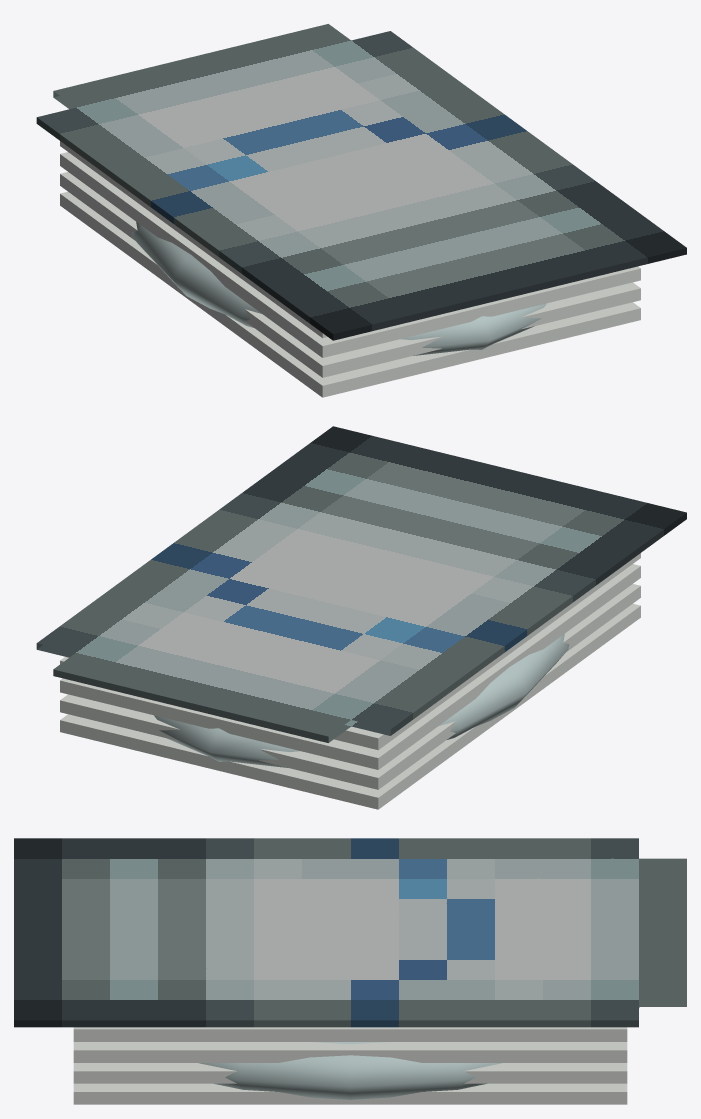
File: CMU3DAU14HemostaticGauze.glb
3 renders of one model, top to bottom at view 1: azimuth 30°, elevation 25°; view 2: azimuth 150°, elevation 25°; view 3: azimuth 270°, elevation 25°, orthographic. The views are drawn at different scales.
Parts seen in each view (by area): view 1: Top source artwork, visible gauze fold (×4), folded gauze volume; view 2: Top source artwork, visible gauze fold (×4), folded gauze volume; view 3: Top source artwork, visible gauze fold (×4), folded gauze volume.
Part boxes in pixels (left/top/right/bottom): Top source artwork: left=36, top=24, right=686, bottom=340; visible gauze fold (×4): left=60, top=141, right=640, bottom=397; folded gauze volume: left=131, top=222, right=546, bottom=355; Top source artwork: left=36, top=426, right=686, bottom=742; visible gauze fold (×4): left=60, top=553, right=640, bottom=809; folded gauze volume: left=154, top=634, right=569, bottom=767; Top source artwork: left=14, top=838, right=686, bottom=1027; visible gauze fold (×4): left=73, top=1027, right=627, bottom=1104; folded gauze volume: left=198, top=1007, right=639, bottom=1099.
Size of the model in its own units: 0.281 by 0.085 by 0.4375.
Materials: 3 (1 with a texture image).
